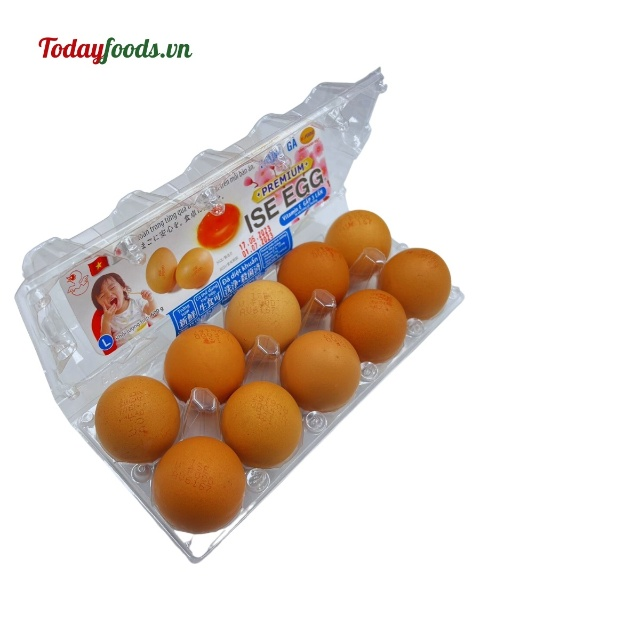trung_ga: (152, 436, 246, 536), (92, 375, 183, 465), (218, 379, 307, 471), (163, 322, 247, 408), (279, 329, 360, 415), (222, 277, 306, 359), (329, 287, 409, 367), (374, 246, 452, 327), (276, 241, 354, 313), (324, 206, 397, 281)
